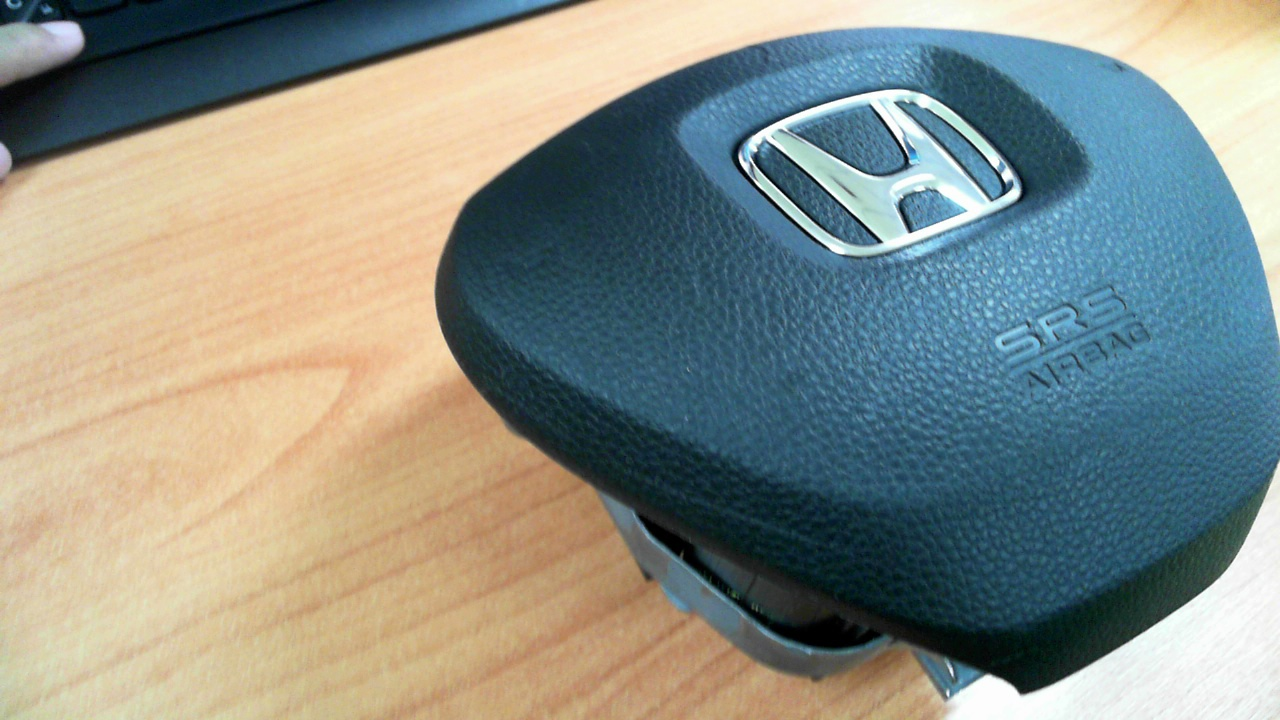Airbag: (435, 25, 1280, 697)
Honda: (730, 89, 1022, 257)
